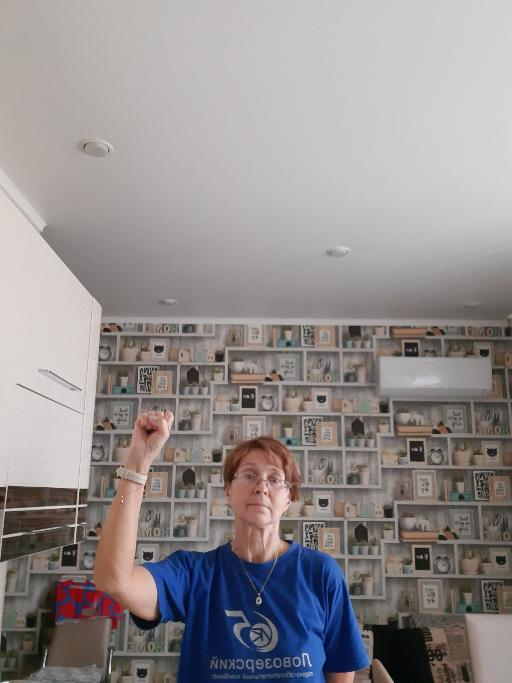fist: (128, 407, 176, 463)
